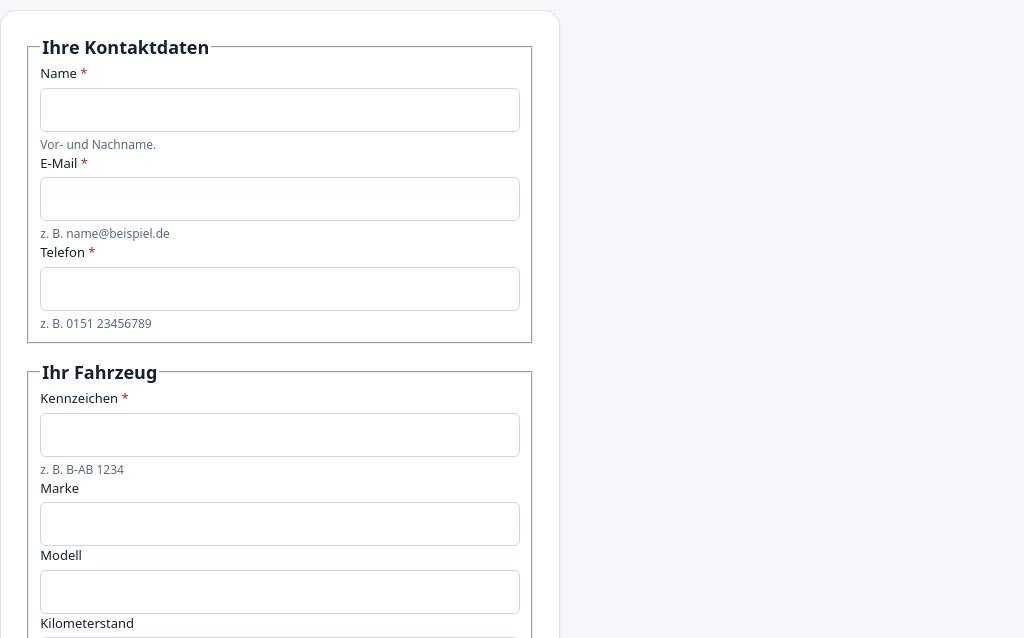
Test: AppointmentPage › maps a 409 conflict to a comprehensible message about the plate
This screenshot has width=1024, height=638.
Type "Anna Schmidt" into the field labelled "Name *" at [280, 110], box [40,88,520,132]
Type "anna.schmidt@example.de" into the field labelled "E-Mail *" at [280, 199], box [40,177,520,221]
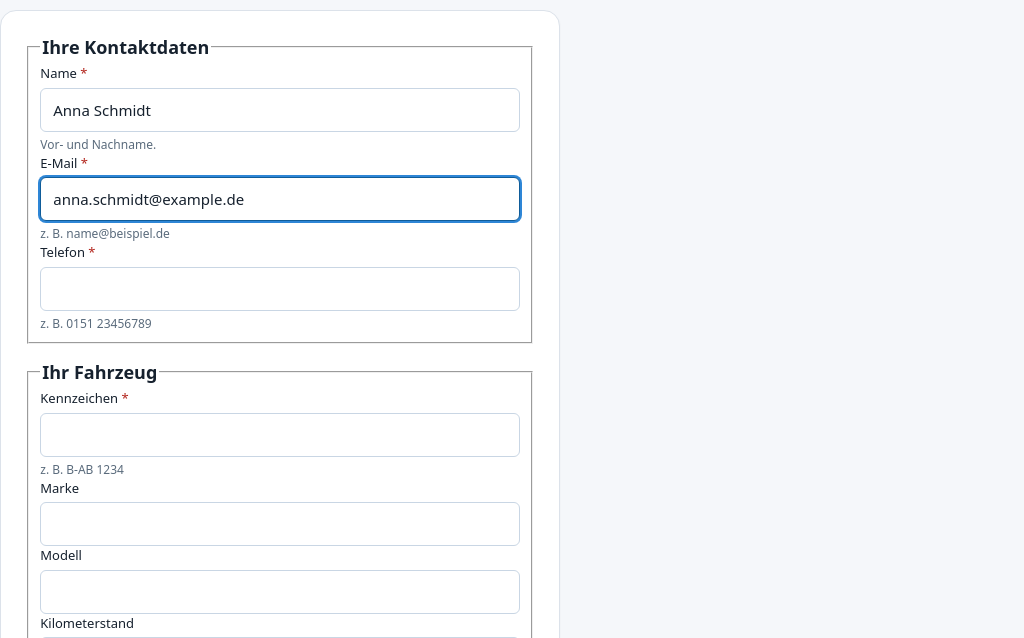
Type "0151 23456789" into the field labelled "Telefon *" at [280, 288], box [40,266,520,310]
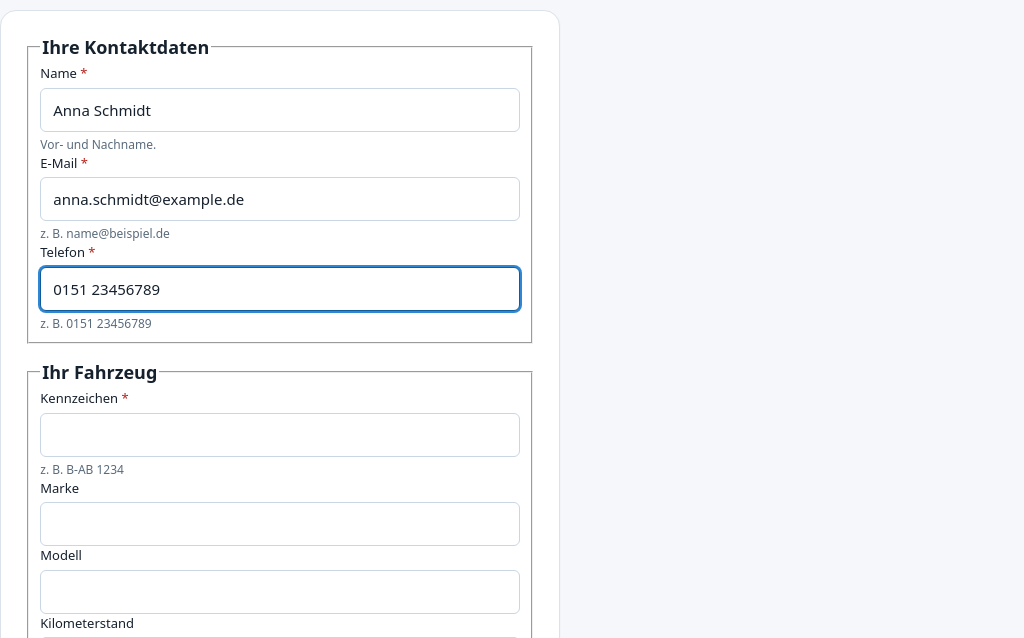
Type "B-AB 1234" into the field labelled "Kennzeichen *" at [280, 435], box [40,413,520,457]
(page scrolled)
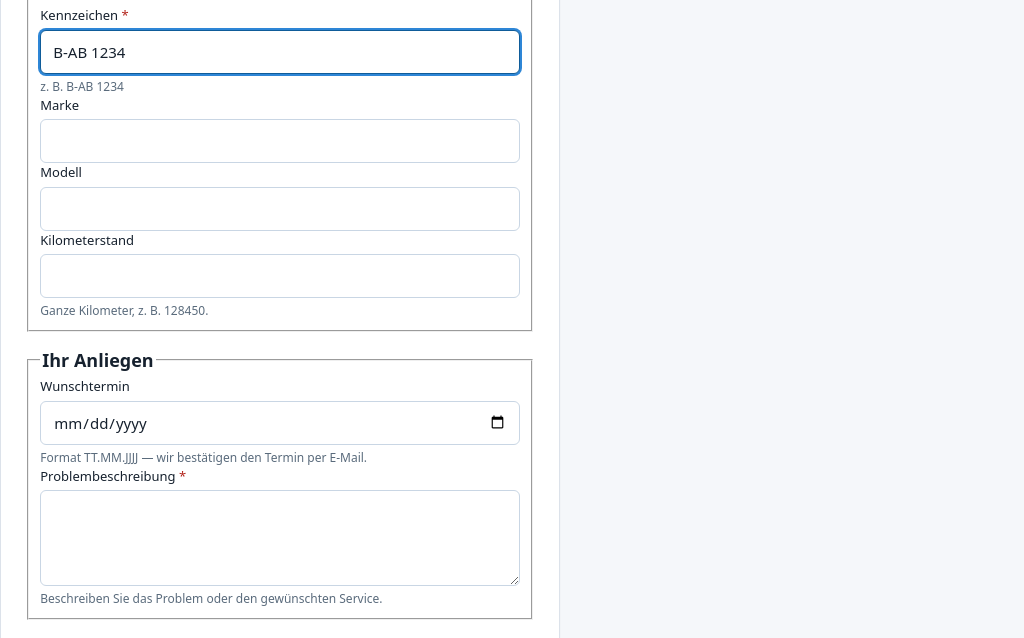
Type "128450" into the number field labelled "Kilometerstand" at [280, 276], box [40,254,520,298]
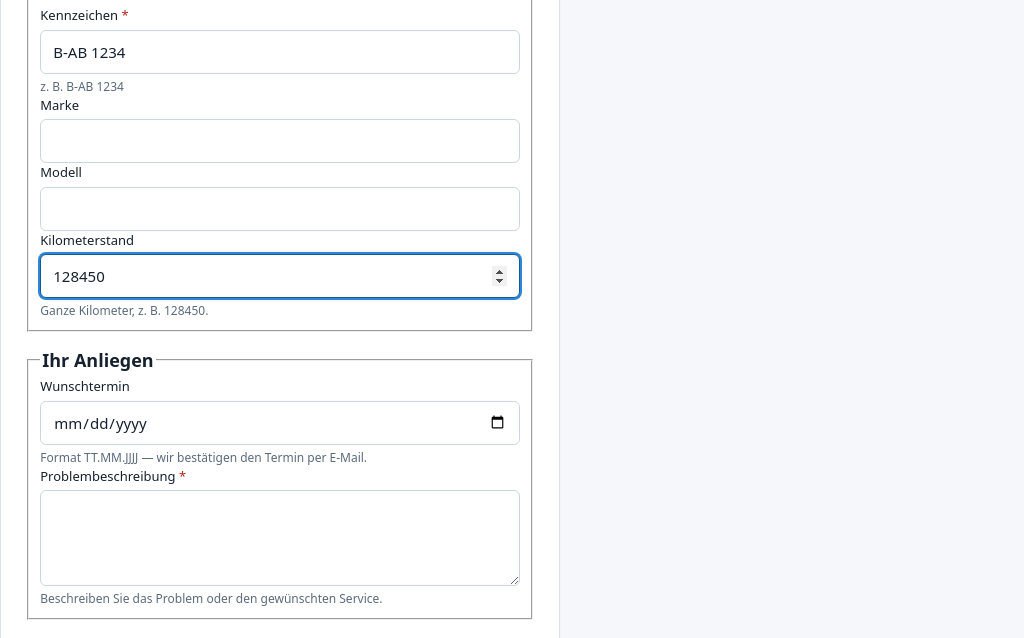
Type "2025-03-14" into the date field labelled "Wunschtermin" at [280, 423], box [40,401,520,445]
Type "Bremsen quietschen vorne." into the text box labelled "Problembeschreibung *" at [280, 538], box [40,490,520,586]
(page scrolled)
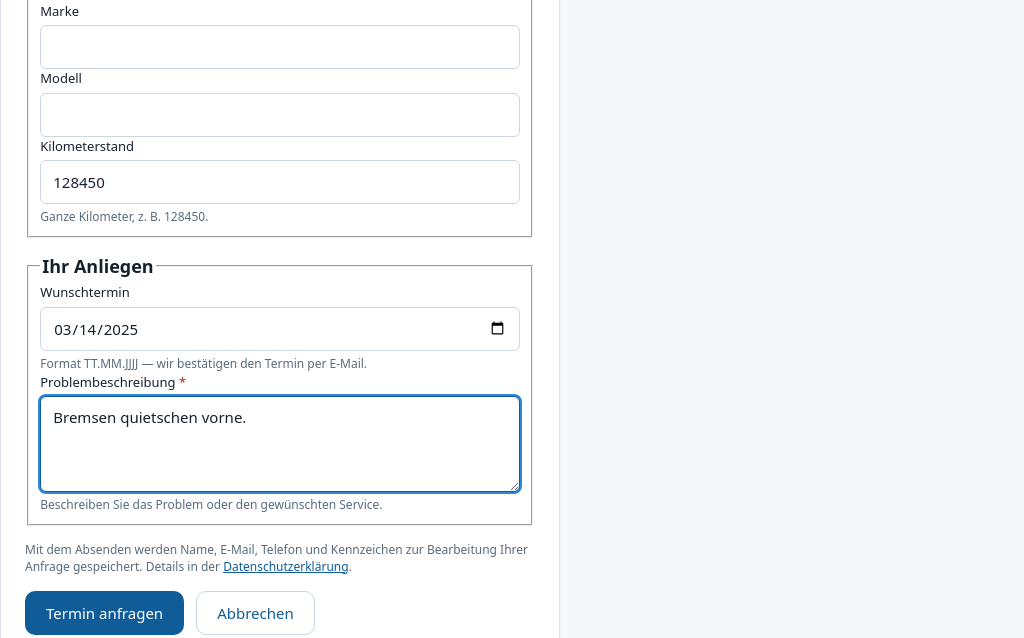
Click the button "Termin anfragen" at [105, 613], box [25,591,184,635]
(page scrolled)
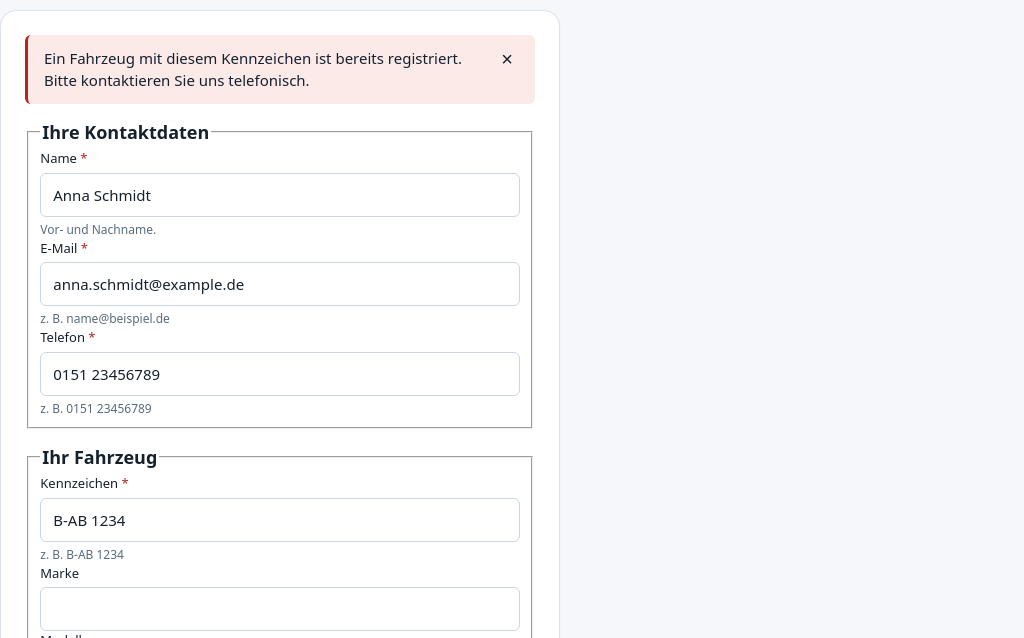
Check: the text "bereits registriert" is shown, box [44,48,462,90]
